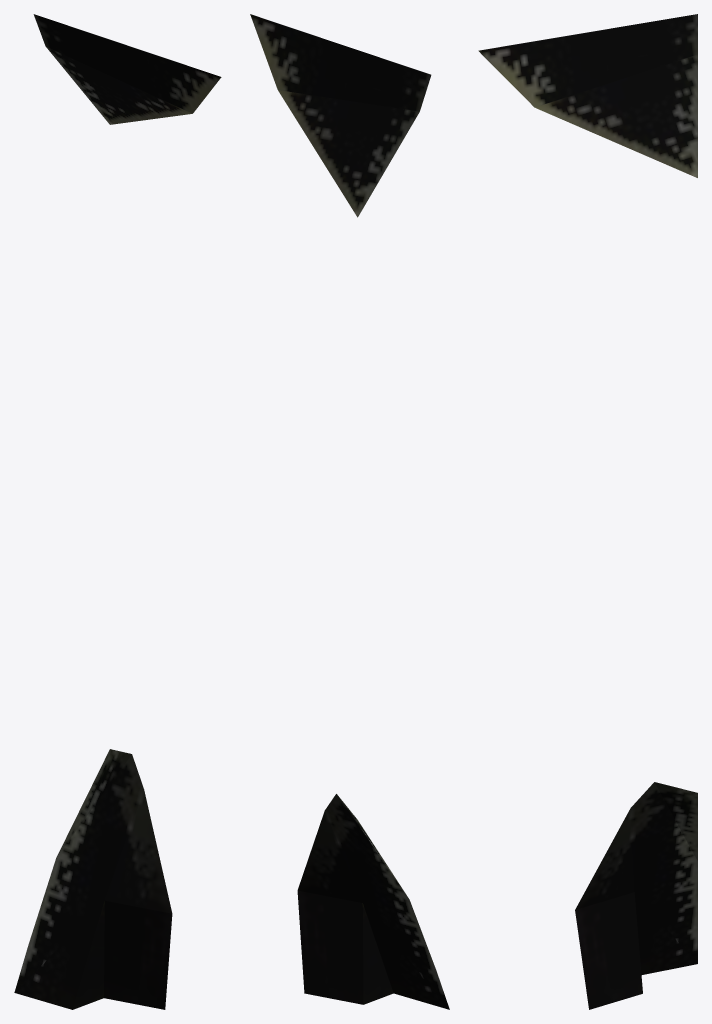
3 views of the same model, side by side, from view 1: azimuth 30°, elevation 25°; view 2: azimuth 210°, elevation 25°; view 3: azimuth 270°, elevation 25° (orthographic). The views are drawn at different scales.
Bounding box in the file's own units: 0.6059 × 5.9 × 1.23.
Materials: 1 (1 with a texture image).
